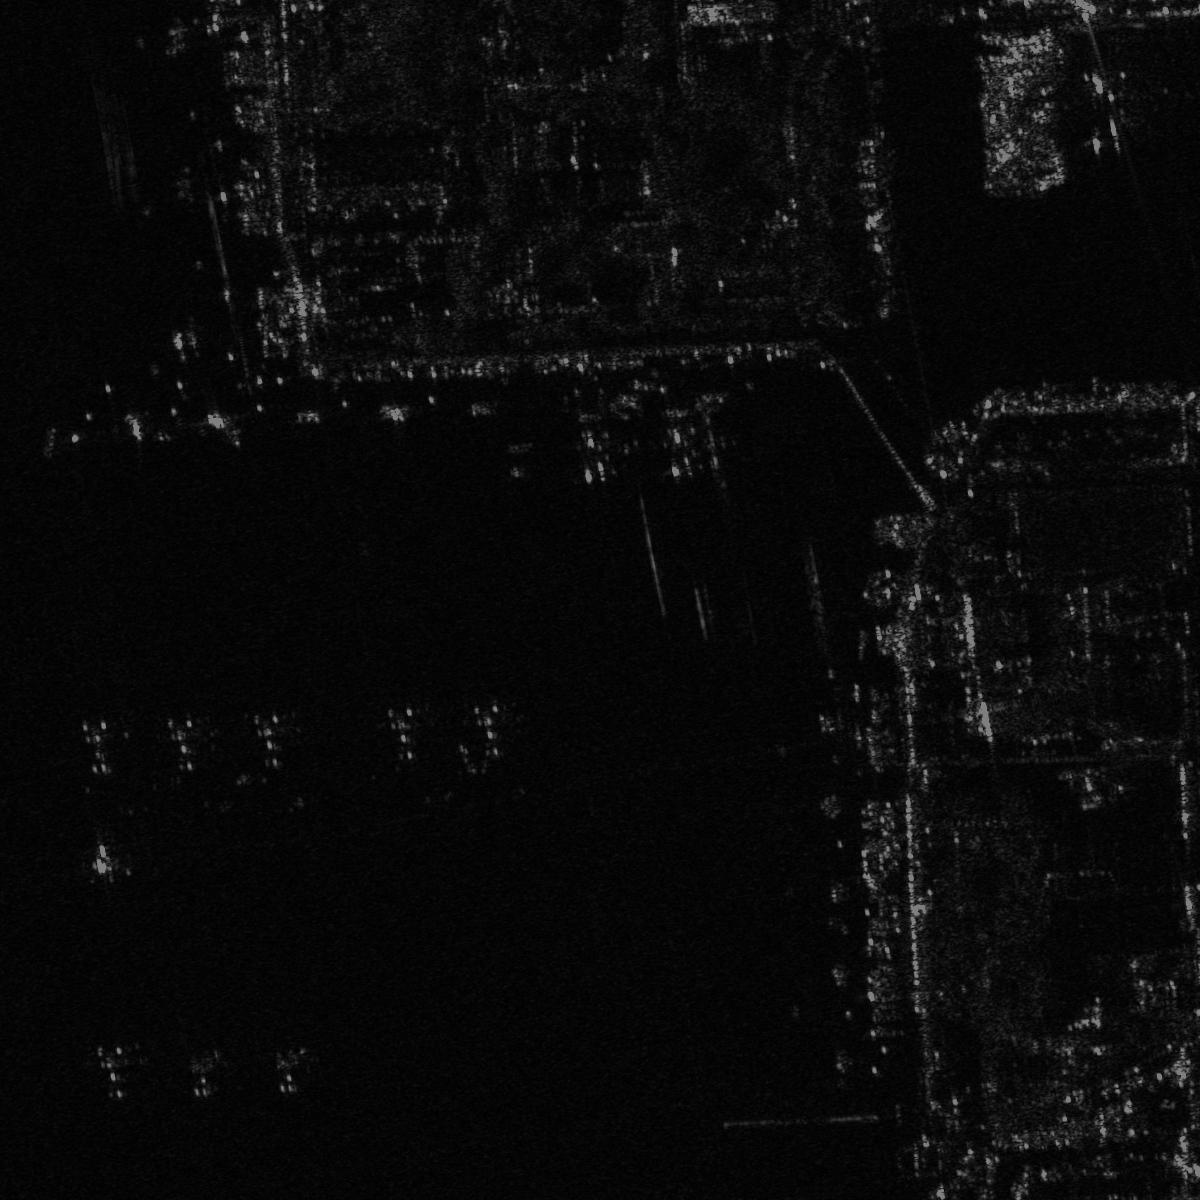A220: (184, 1047, 234, 1101)
A320/321: (269, 1044, 316, 1099)
ARJ21: (557, 407, 621, 493), (79, 1042, 149, 1101), (71, 841, 137, 884)
Boeing737: (1062, 64, 1151, 158), (651, 403, 702, 487)
other: (147, 705, 229, 784), (237, 705, 316, 780), (451, 695, 531, 768), (62, 708, 136, 779), (373, 696, 435, 768)
